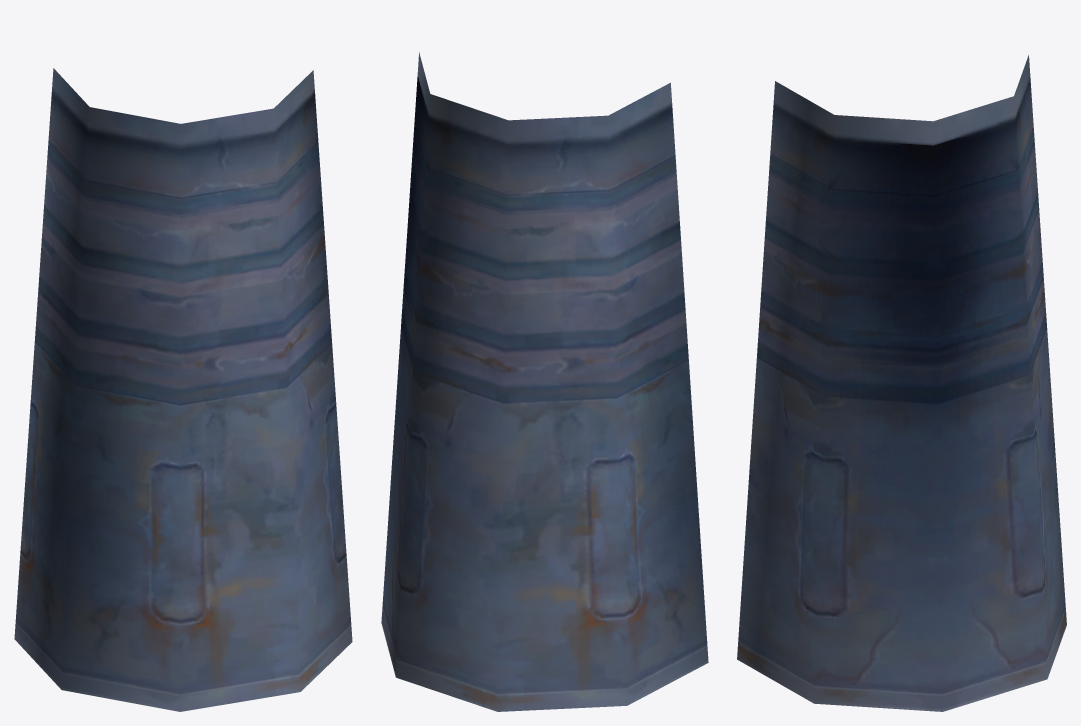
The model's file is all_arch_und_med_light.glb.
3 renders of one model, left to right at view 1: azimuth 30°, elevation 25°; view 2: azimuth 150°, elevation 25°; view 3: azimuth 270°, elevation 25°, orthographic.
Visible parts, largest first — view 1: all_arch_und_med_light; view 2: all_arch_und_med_light; view 3: all_arch_und_med_light.
Boxes of the visible parts, x1,y1,x2,y2 form: all_arch_und_med_light: (14, 68, 352, 711); all_arch_und_med_light: (381, 52, 708, 711); all_arch_und_med_light: (737, 55, 1066, 711).
Bounding box in the file's own units: 0.2004 × 0.385 × 0.2004.
1 material, 1 textured.
